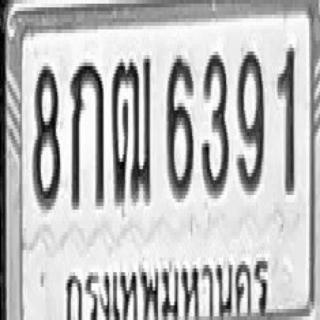A01: (70, 59, 104, 210)
A18: (110, 53, 151, 204)
N01: (276, 46, 294, 193)
N03: (202, 50, 229, 197)
N06: (166, 51, 193, 199)
N08: (31, 62, 60, 210)
N09: (237, 48, 264, 191)
P04: (58, 253, 272, 320)
